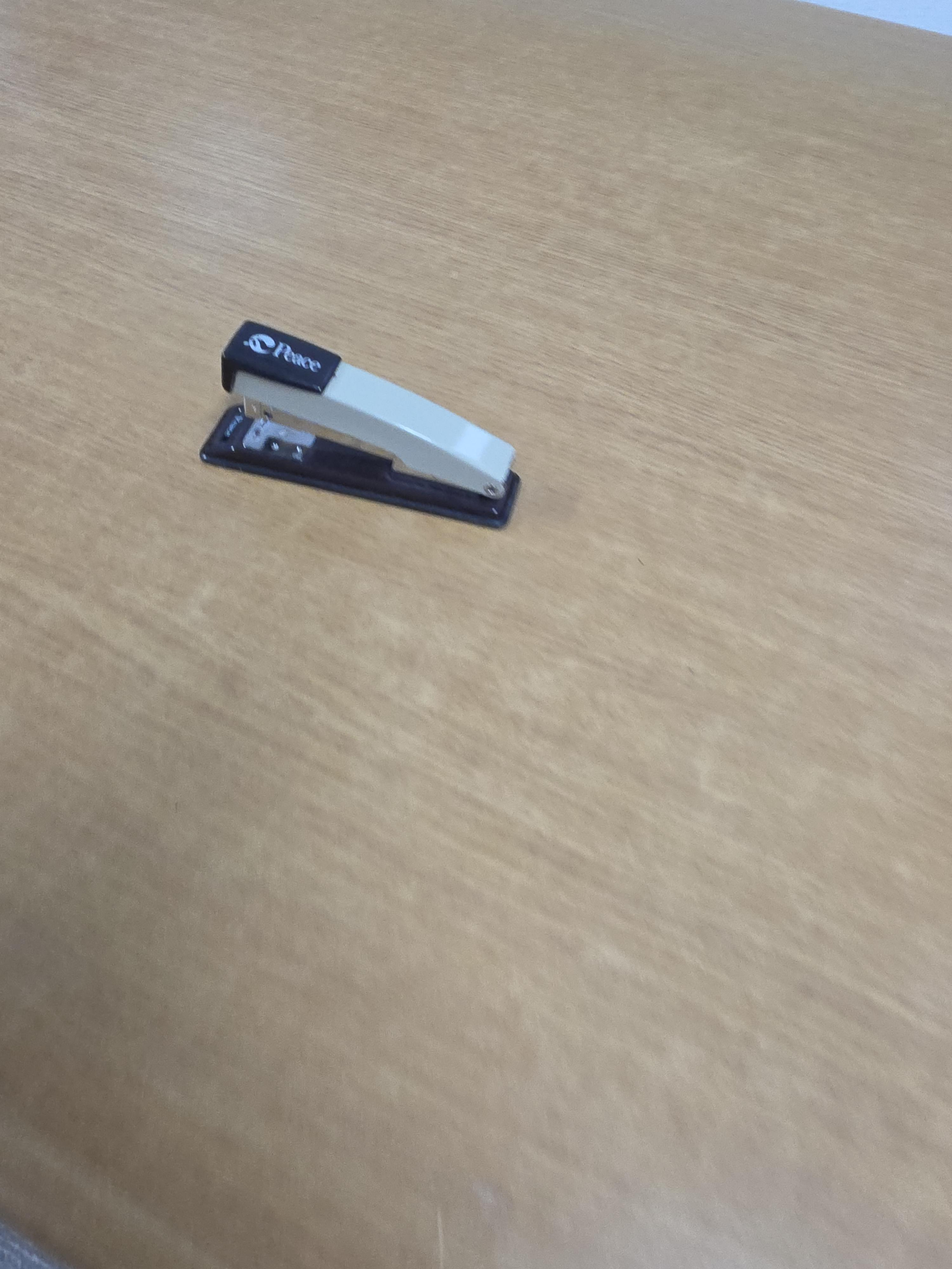stapler: (200, 318, 521, 530)
